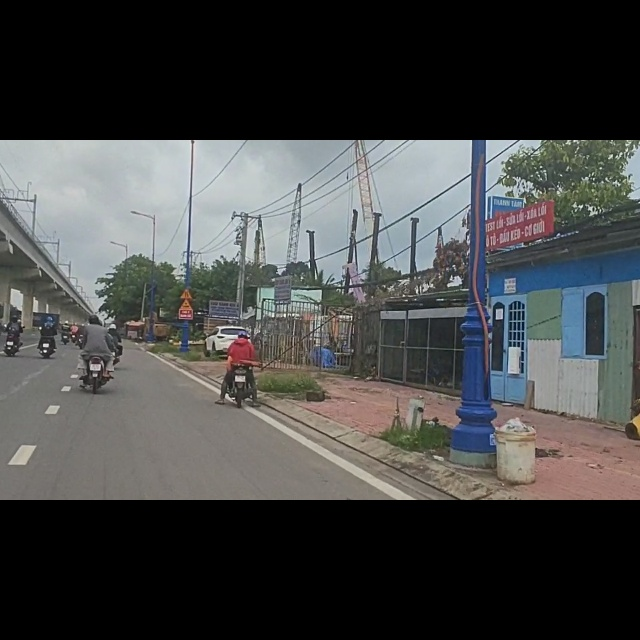bien_nguy_hiem: (179, 283, 193, 300), (181, 264, 194, 282)
